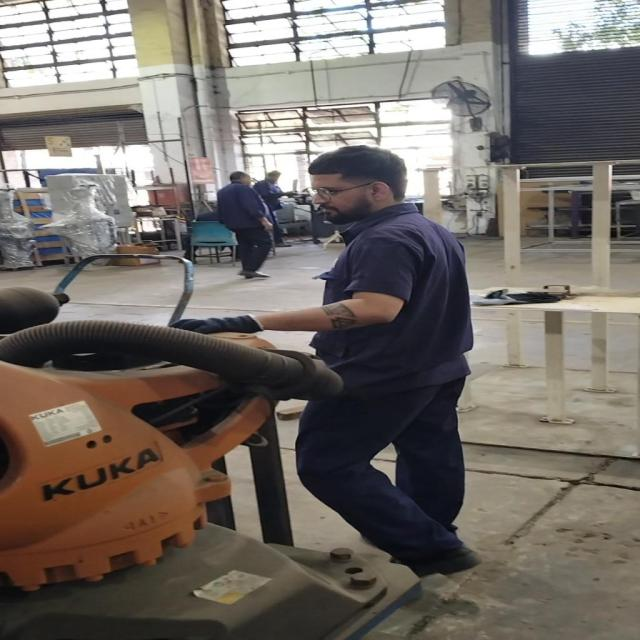Gloves-Detection: (170, 306, 264, 344)
